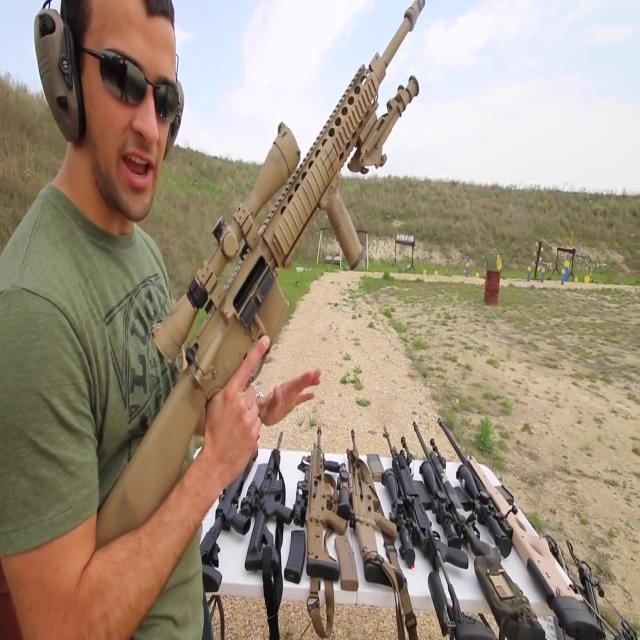Weapon: (88, 0, 429, 618), (164, 382, 610, 640)
